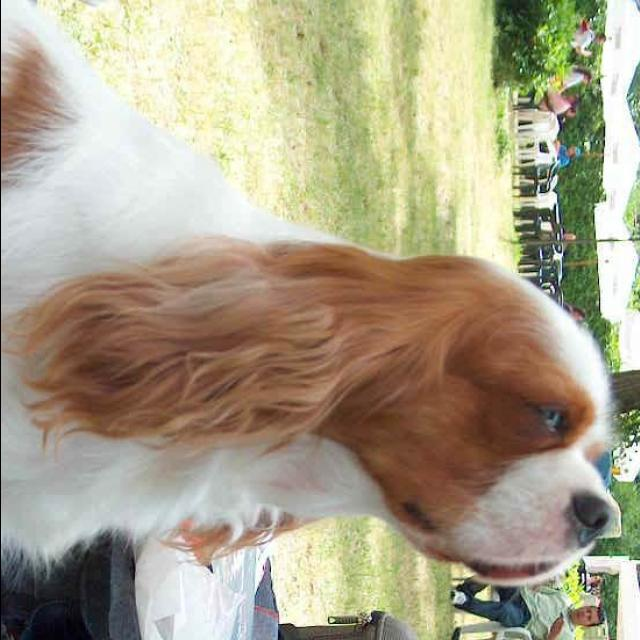blenheim_spaniel: (2, 0, 624, 588)
